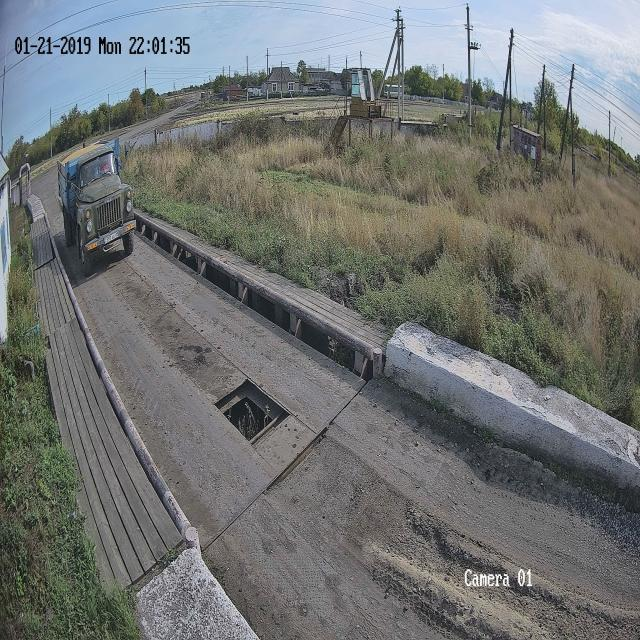license plate: (105, 230, 118, 243)
truck: (58, 138, 135, 275)
